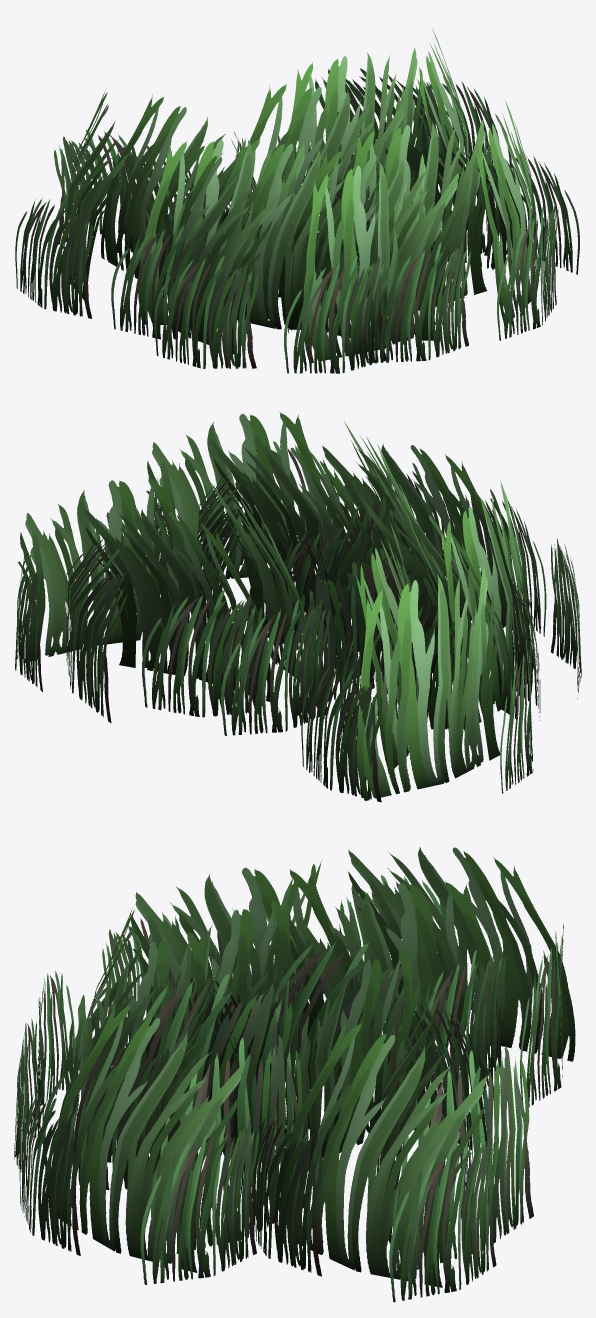
Rendered from grass.glb.
3 renders of one model, top to bottom at view 1: azimuth 30°, elevation 25°; view 2: azimuth 150°, elevation 25°; view 3: azimuth 270°, elevation 25°, orthographic. The views are drawn at different scales.
Visible parts, largest first — view 1: grasses (×4); view 2: grasses (×4); view 3: grasses (×4).
Part boxes in pixels (x1,y1,x2,y2): grasses (×4): (15, 28, 579, 373); grasses (×4): (15, 411, 581, 802); grasses (×4): (14, 847, 575, 1302).
Size of the model in its own units: 0.8037 by 0.29 by 0.656.
1 material, 1 textured.
